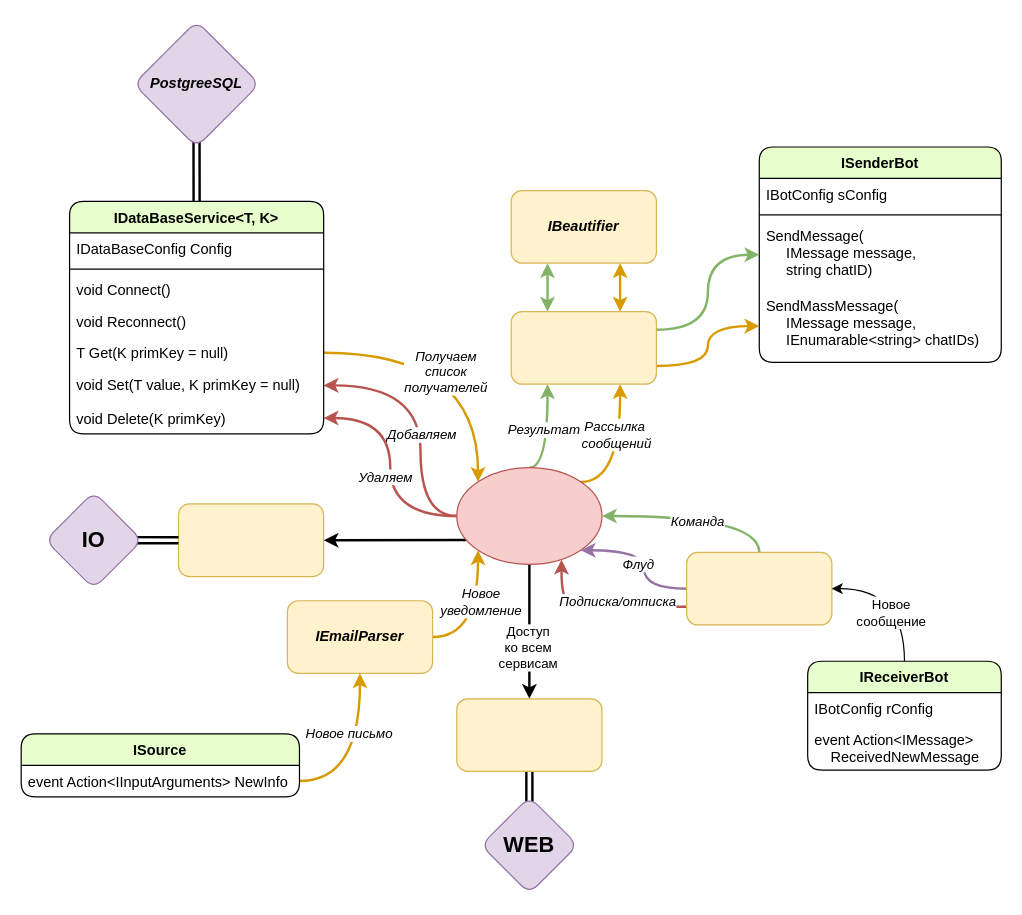
Some shapes in this 1022 by 915 pixel diagram are drawn without their labels. The centre of each missing label's shape, as x and y in pixels:
"IAdminPanel" belongs at point (529, 734).
"ILogger" belongs at point (250, 540).
"IMessageParser" belongs at point (758, 588).
"ISenderService" belongs at point (583, 347).
"MAIN" belongs at point (529, 515).
